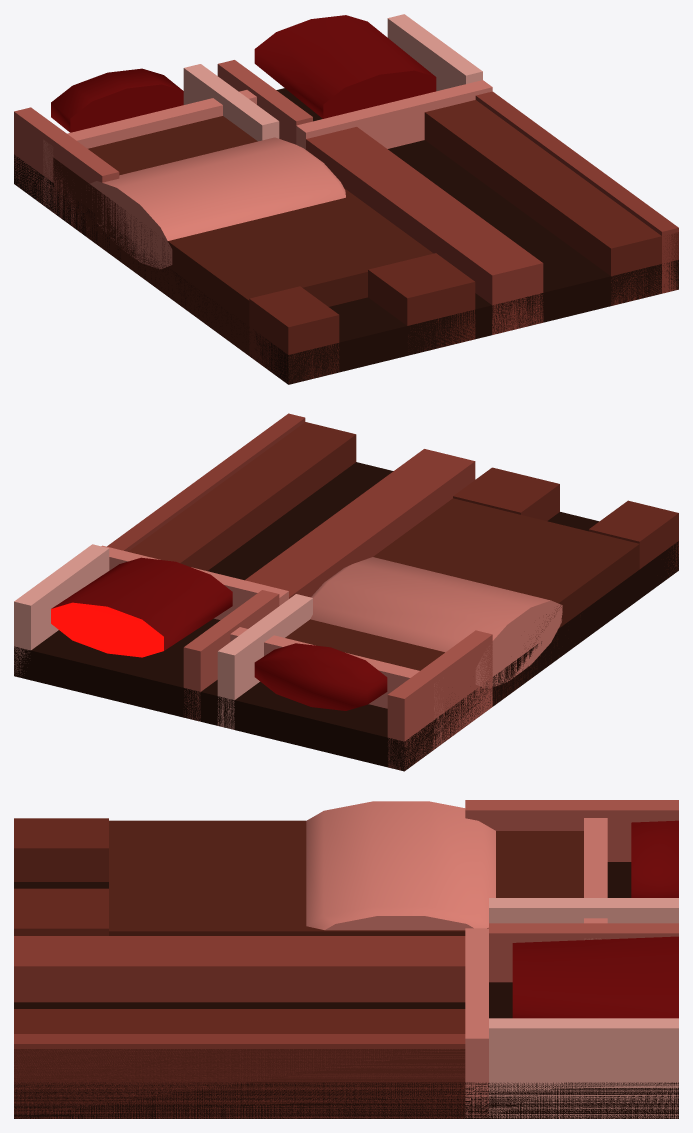
The model's file is newshf-199.glb.
3 views of the same model, one above another, from view 1: azimuth 30°, elevation 25°; view 2: azimuth 150°, elevation 25°; view 3: azimuth 270°, elevation 25° (orthographic). The views are drawn at different scales.
Parts seen in each view (by area): view 1: newshf-199; view 2: newshf-199; view 3: newshf-199.
Boxes of the visible parts, x1,y1,x2,y2 form: newshf-199: (14, 14, 678, 384); newshf-199: (14, 413, 678, 771); newshf-199: (14, 800, 678, 1118).
Bounding box in the file's own units: 1.92 × 0.4332 × 2.33.
